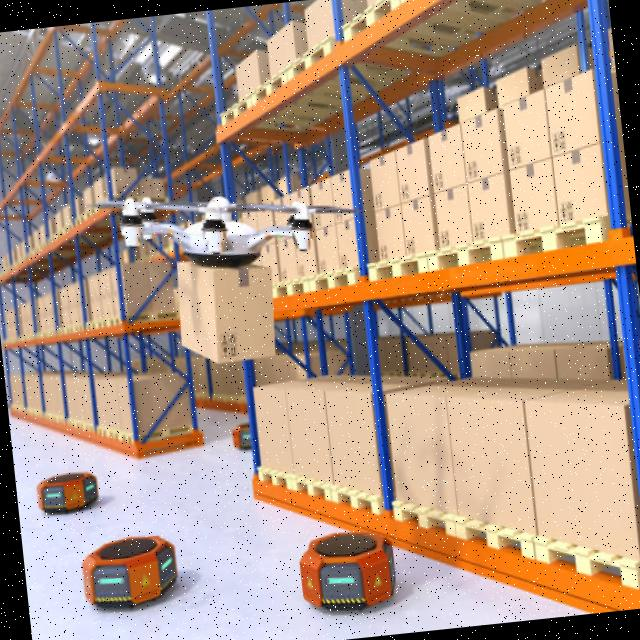Wooden-Pallets: (531, 530, 640, 596), (504, 208, 610, 267), (455, 516, 532, 568), (430, 229, 503, 282), (338, 0, 410, 50), (291, 28, 338, 88), (391, 498, 450, 543), (363, 249, 426, 289), (329, 480, 383, 522), (212, 92, 251, 140), (306, 264, 361, 298), (250, 65, 291, 110), (264, 270, 307, 311), (294, 471, 331, 511)
